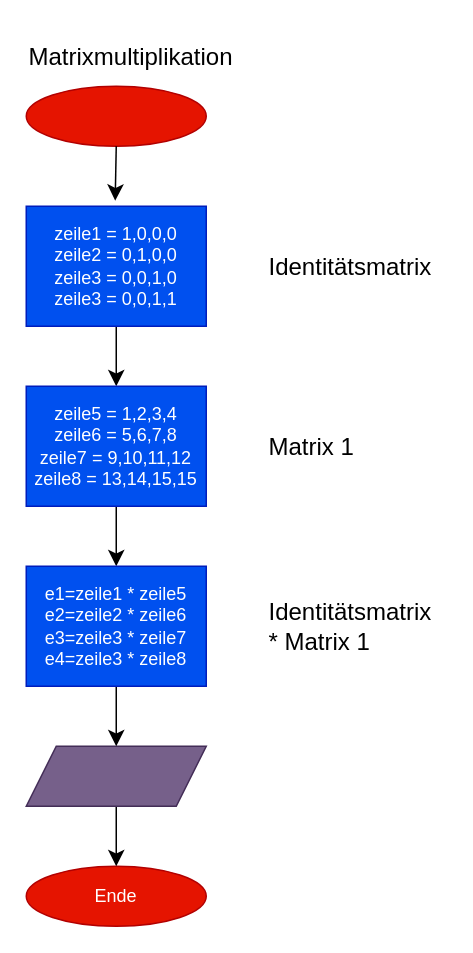
This 473x953 diagram has some shape labels left out. Here are the shapes that lost their labels. From the top down, the box of each, then its label:
(25, 85, 206, 146): Start
(25, 745, 206, 806): print e1 bis e4
